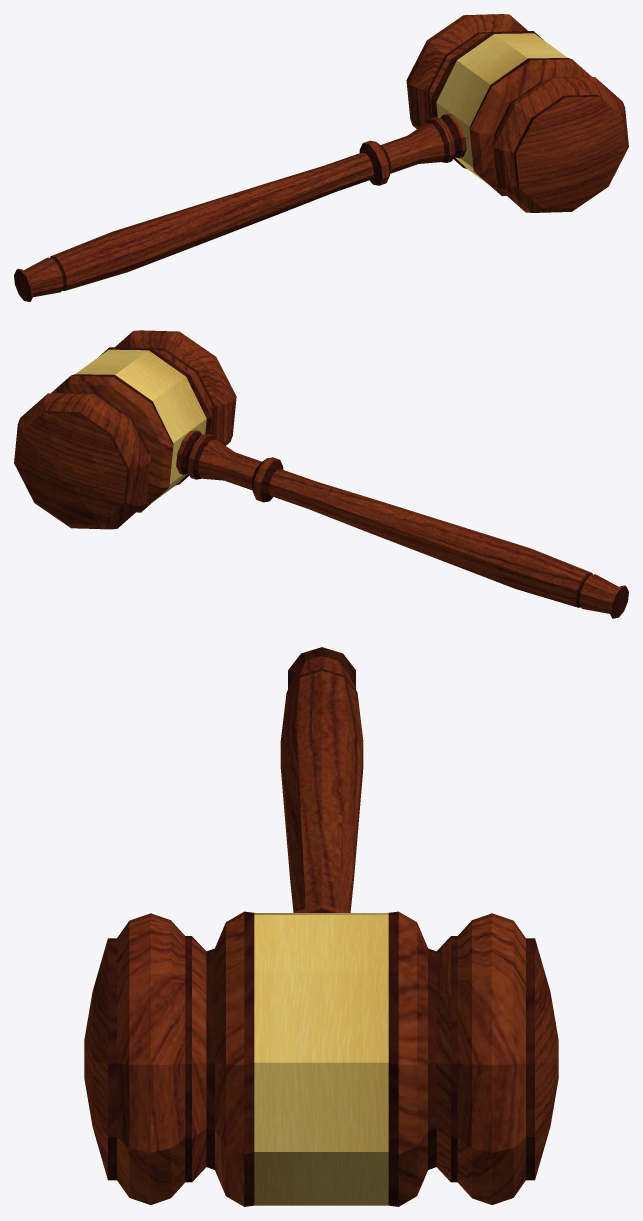
File: WorldItem_Gavel.fbx
3 renders of one model, top to bottom at view 1: azimuth 30°, elevation 25°; view 2: azimuth 150°, elevation 25°; view 3: azimuth 270°, elevation 25°, orthographic. The views are drawn at different scales.
Parts seen in each view (by area): view 1: ZomboidGavel; view 2: ZomboidGavel; view 3: ZomboidGavel.
Part boxes in pixels (left/top/right/bottom): ZomboidGavel: left=14, top=14, right=628, bottom=301; ZomboidGavel: left=14, top=330, right=628, bottom=618; ZomboidGavel: left=84, top=647, right=558, bottom=1206.
Size of the model in its own units: 0.3181 by 0.0743 by 0.1158.
